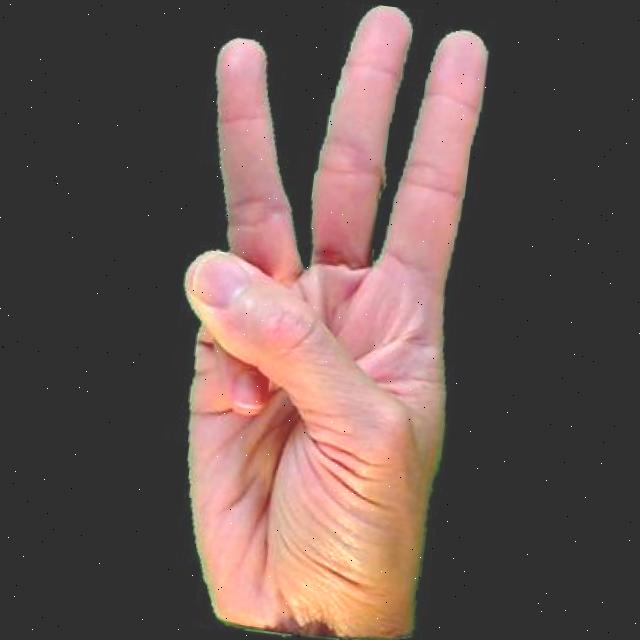w: (136, 0, 497, 640)
